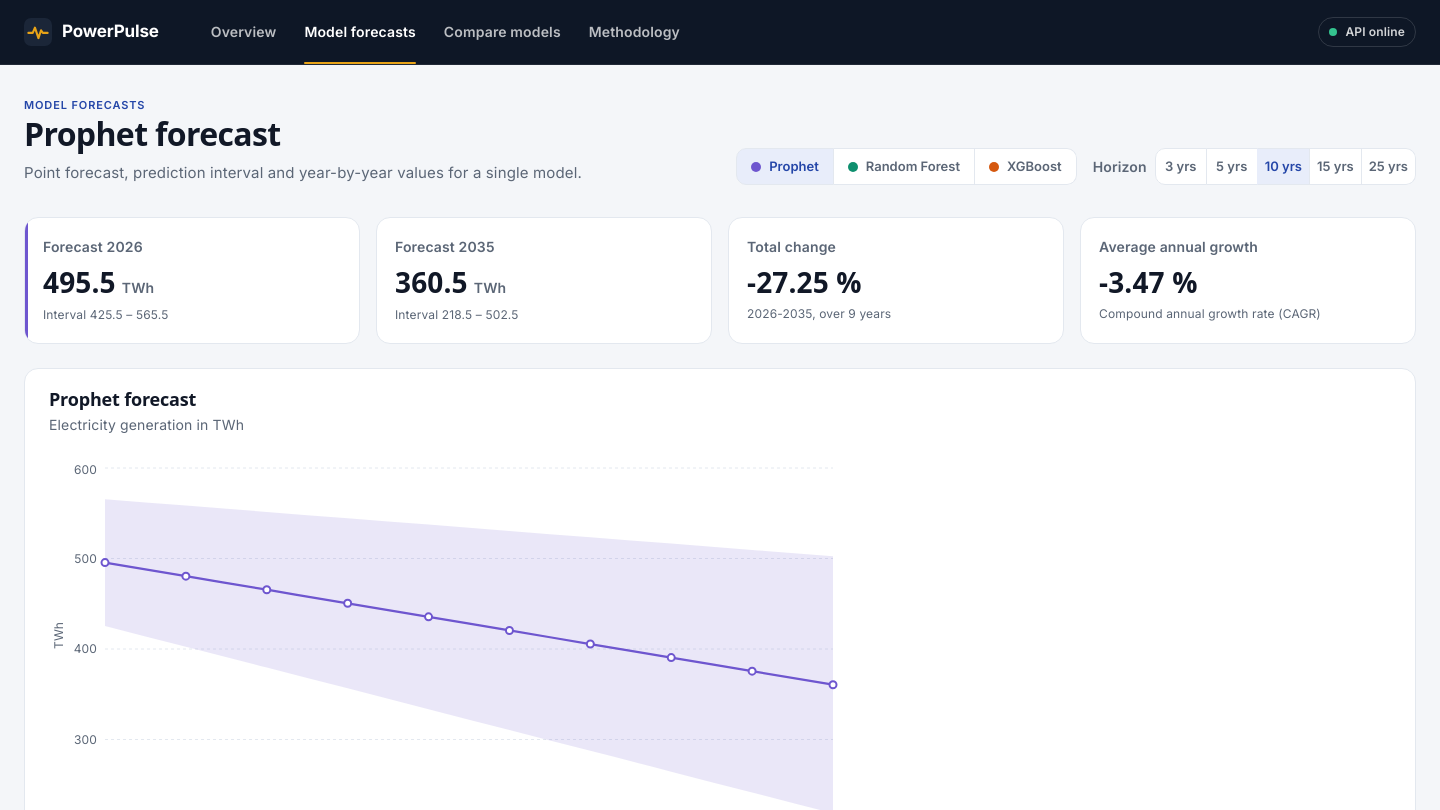
Test: application › marks years without a calibrated interval
Click the button with aria-label "15 years ahead". click: (1335, 167)
box: x1=1309 y1=148 x2=1362 y2=185
(page scrolled)
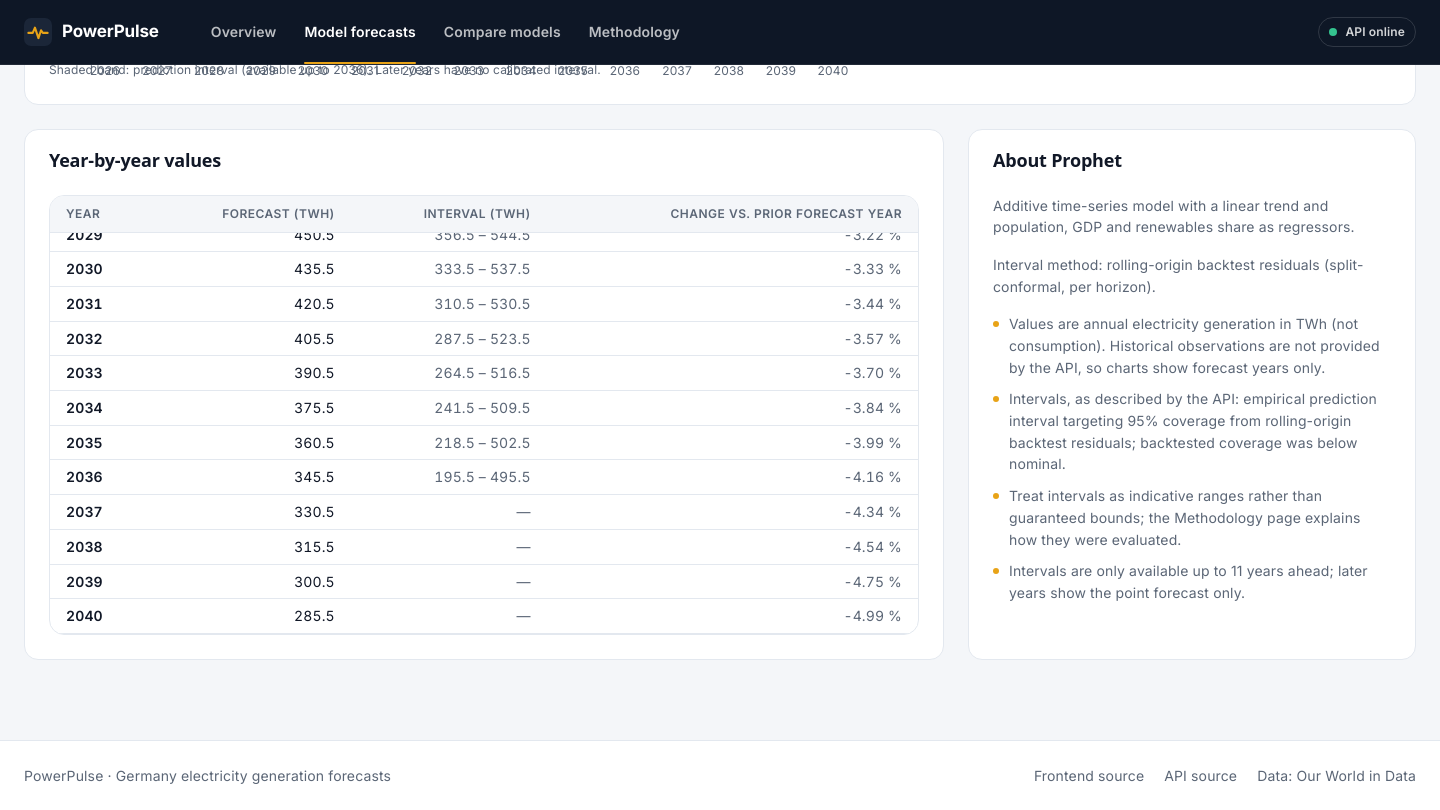
Expected: the text "—" in the row of "-4.99 %" is shown, x1=516 y1=607 x2=531 y2=624
Expected: the text "available up to 2036" is shown, x1=49 y1=62 x2=601 y2=77
